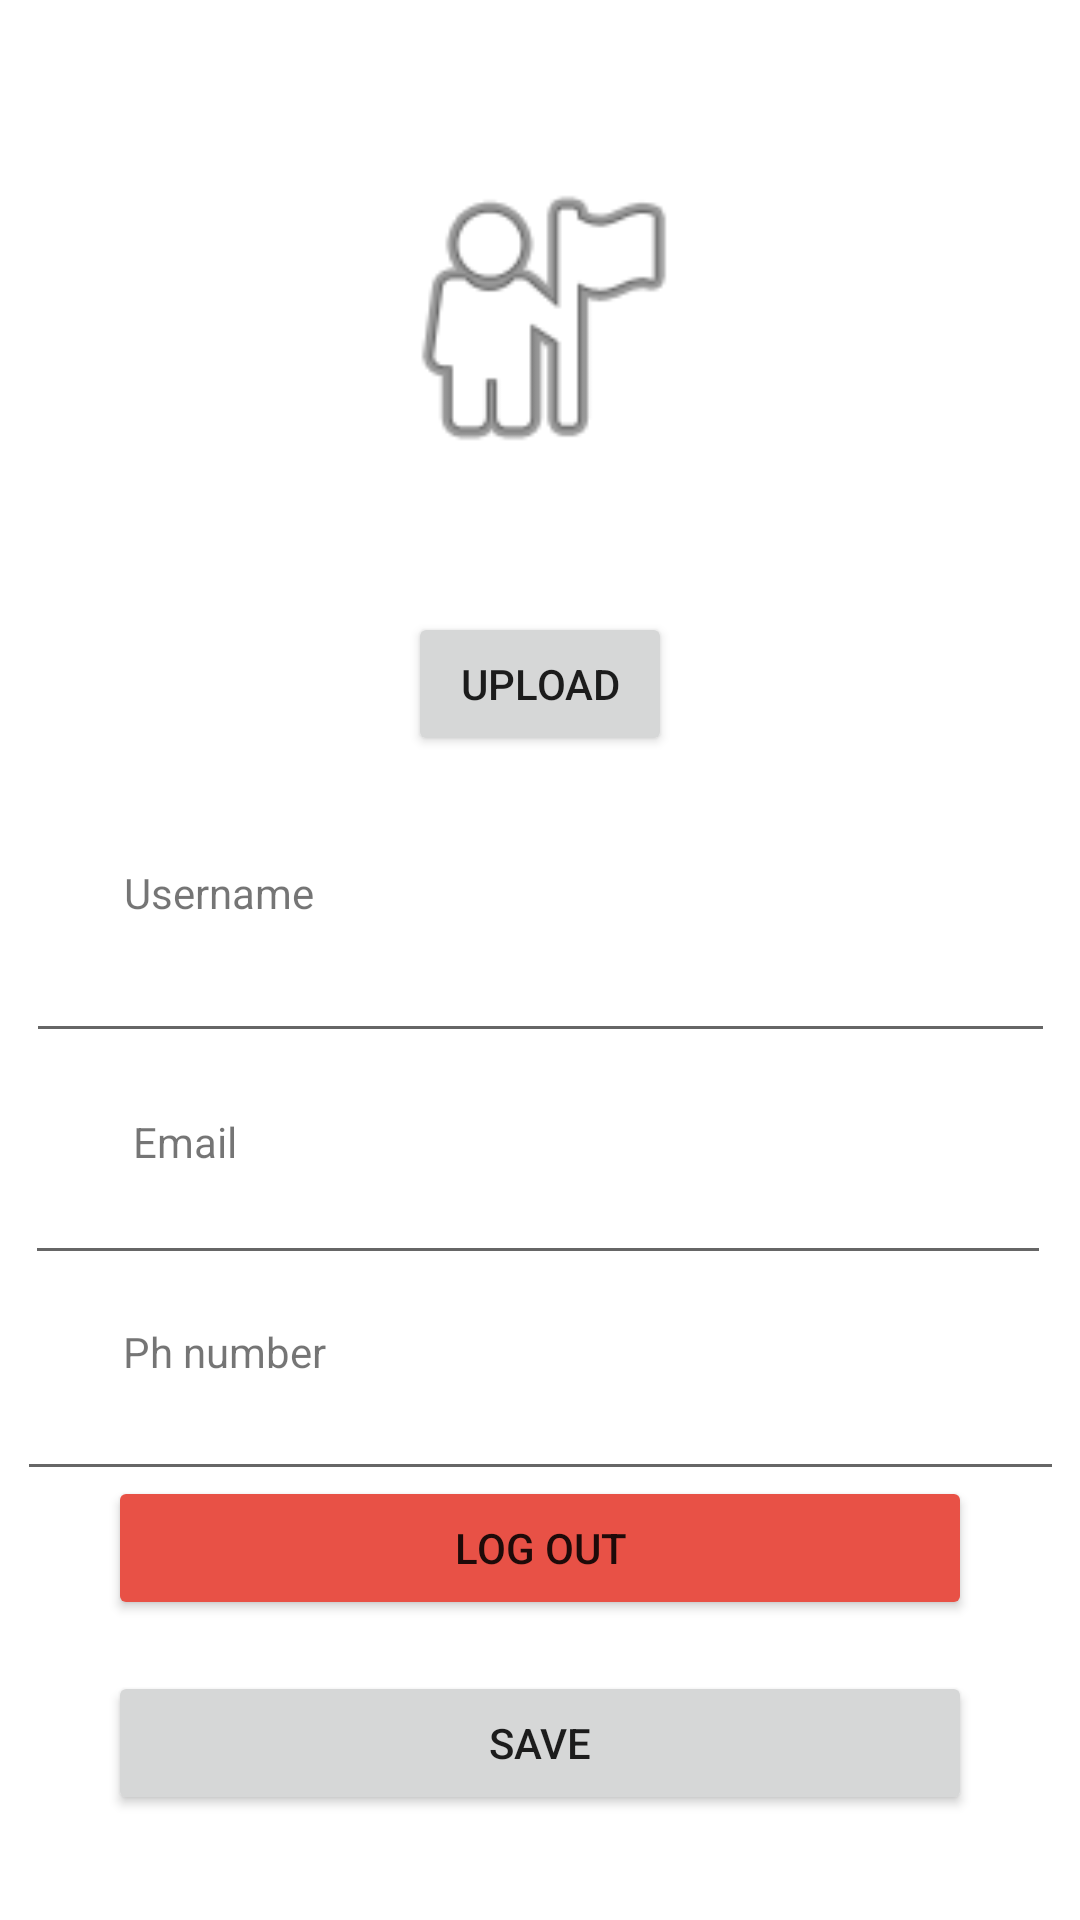

Screen size 1080 x 1920. Icon name, then its box in pixels as (x1, y1, x2, y2):
myplaces: (422, 197, 666, 439)
